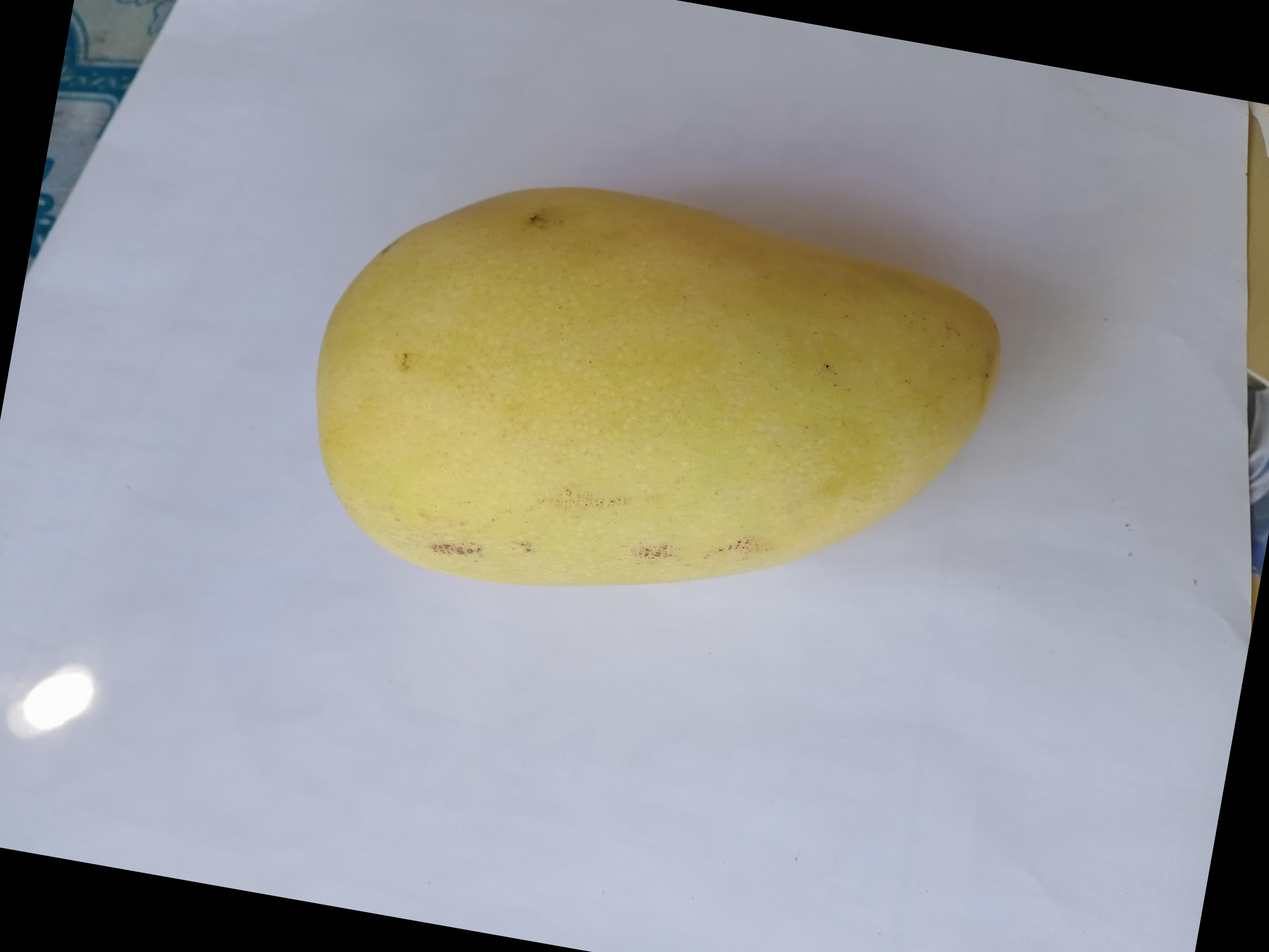Mango Ripe: (328, 0, 1186, 571)
